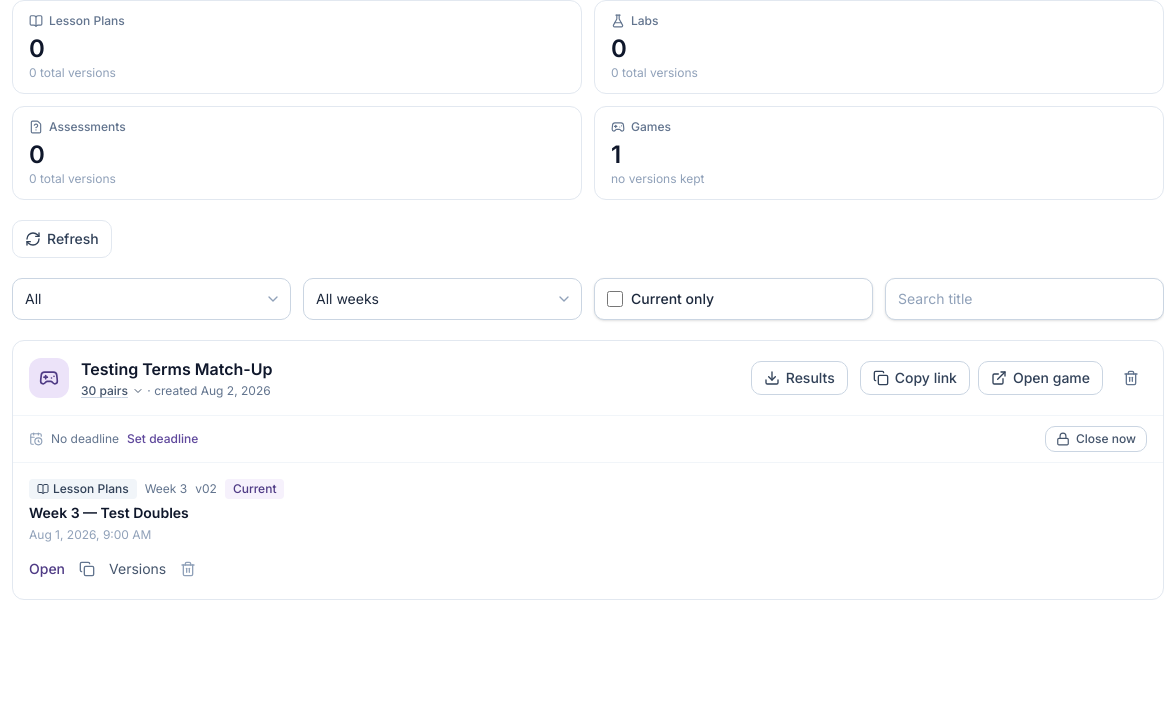
Test case: generated content › lets a game be expanded to its pairs in place
Click the button "30 pairs" at (112, 391), box [81,383,144,399]
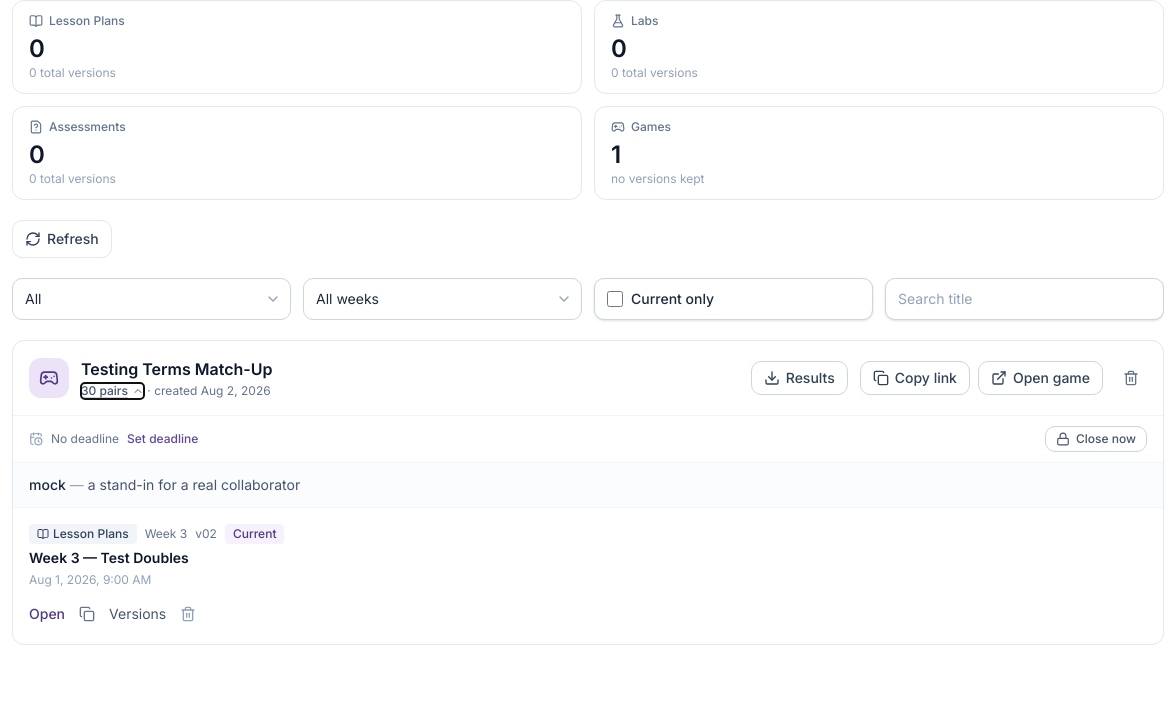
Expected: the text "mock" is shown, [29,476,66,493]
